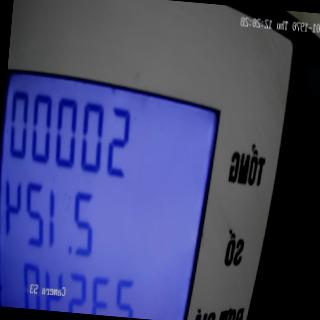screen: (0, 54, 230, 320)
